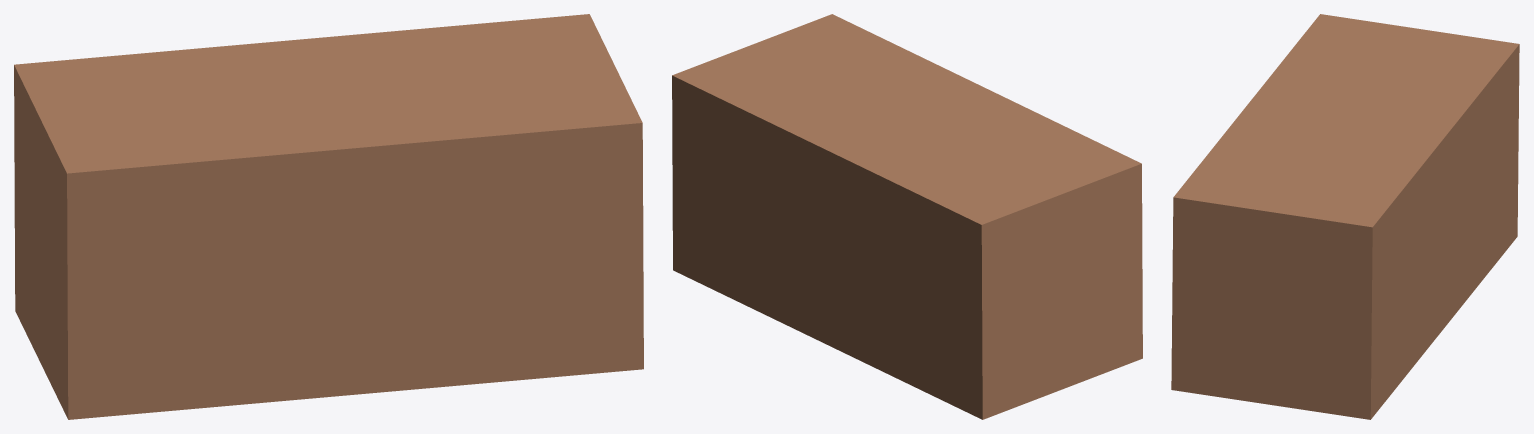
The model's file is GB_Dock_03.fbx.
The picture shows the model from 3 angles, left to right: view 1: azimuth 30°, elevation 25°; view 2: azimuth 150°, elevation 25°; view 3: azimuth 270°, elevation 25°; orthographic projection. The views are drawn at different scales.
Parts seen in each view (by area): view 1: Dock_03; view 2: Dock_03; view 3: Dock_03.
Part boxes in pixels (bbox=[...]): Dock_03: bbox=[14, 14, 643, 419]; Dock_03: bbox=[672, 14, 1142, 419]; Dock_03: bbox=[1171, 14, 1519, 419].
Size of the model in its own units: 339 by 145 by 234.
